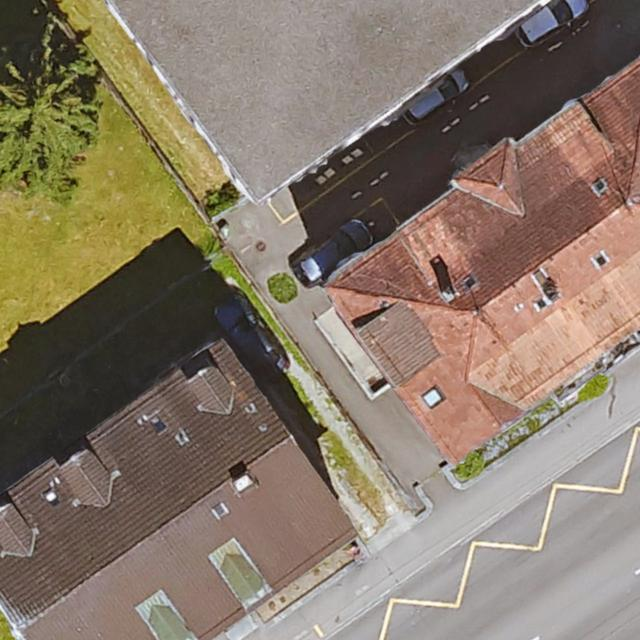tree: (0, 52, 96, 200)
